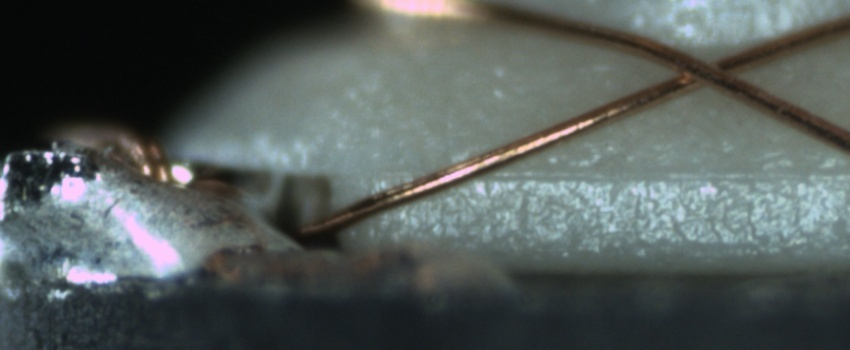CL: (659, 44, 748, 94)
DL: (377, 145, 850, 204)
TE: (53, 119, 180, 189)
